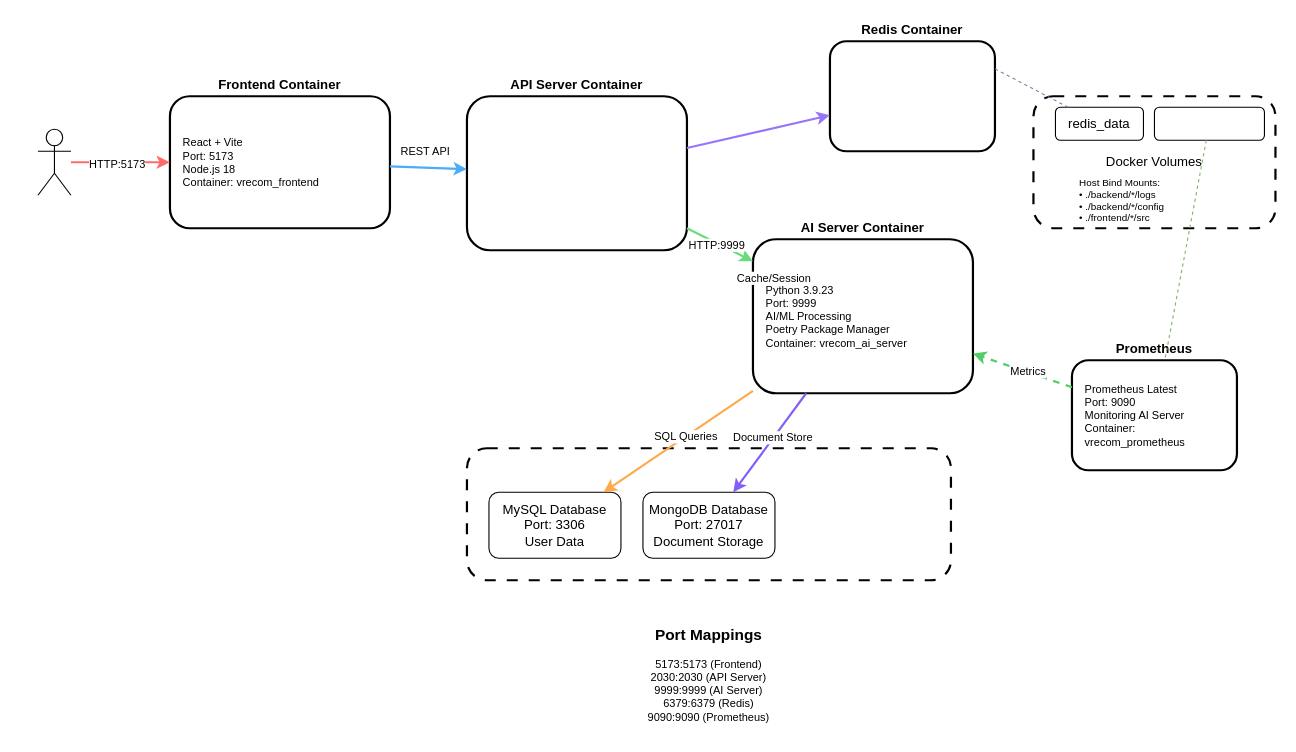
The diagram is 1296 pixels wide and 752 high, and some of its shapes have lost their labels. Each missing label, with the centre of its shape:
Go 1.24.4 Port: 2030 JWT Auth Session Management Container: vrecom_api_server: the point at 576,173
Người dùng: the point at 54,161
prometheus_data: the point at 1208,123
Redis 7 Alpine Port: 6379 Cache & Sessions Container: vrecom_redis: the point at 912,96
